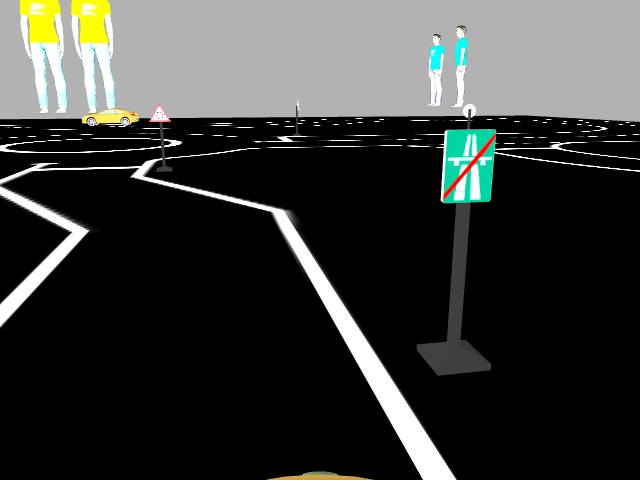HighwayExit: (441, 129, 495, 201)
